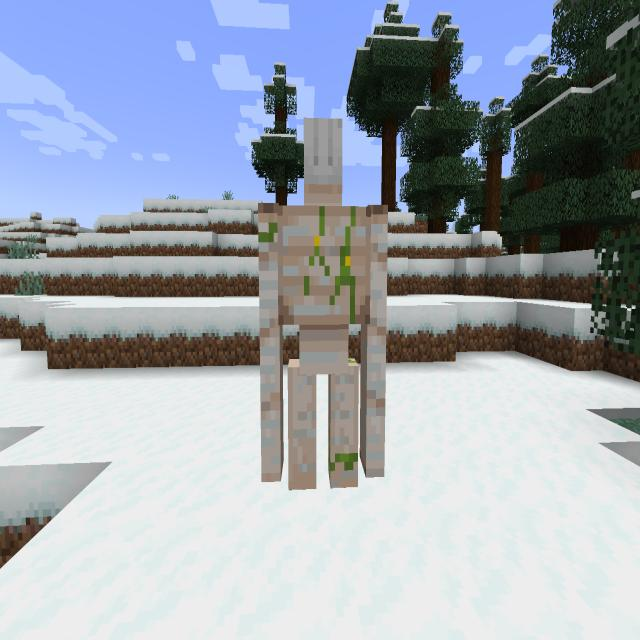iron golem: (241, 107, 398, 516)
